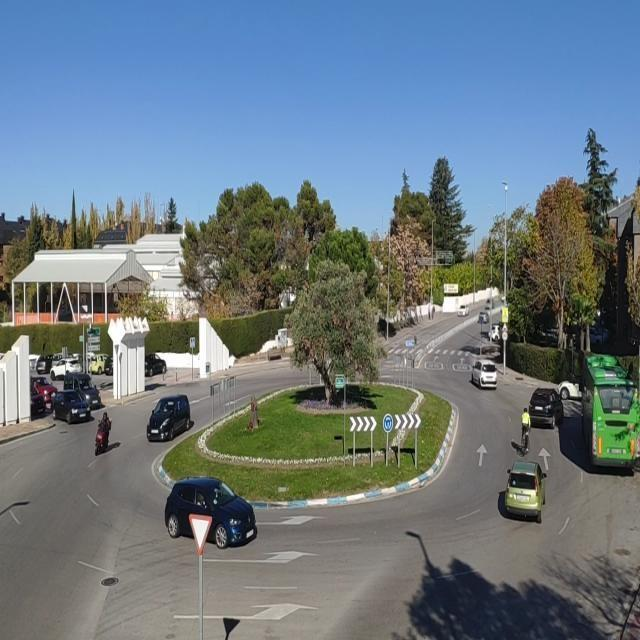Bus: (581, 346, 640, 466)
Car: (161, 479, 264, 547), (144, 392, 194, 448), (508, 459, 545, 515), (526, 382, 560, 426), (65, 366, 102, 405), (58, 388, 92, 429), (553, 359, 583, 398), (32, 364, 52, 399)
Van: (473, 344, 499, 394)
